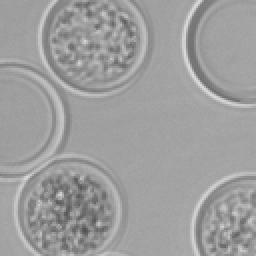picoshell: (14, 154, 126, 254), (38, 0, 152, 96), (0, 60, 68, 180), (182, 0, 254, 106), (190, 172, 254, 254)
